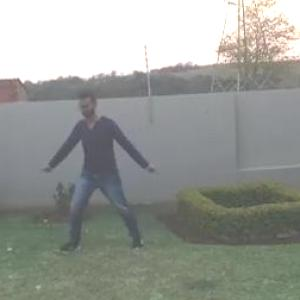land: (37, 74, 163, 258)
